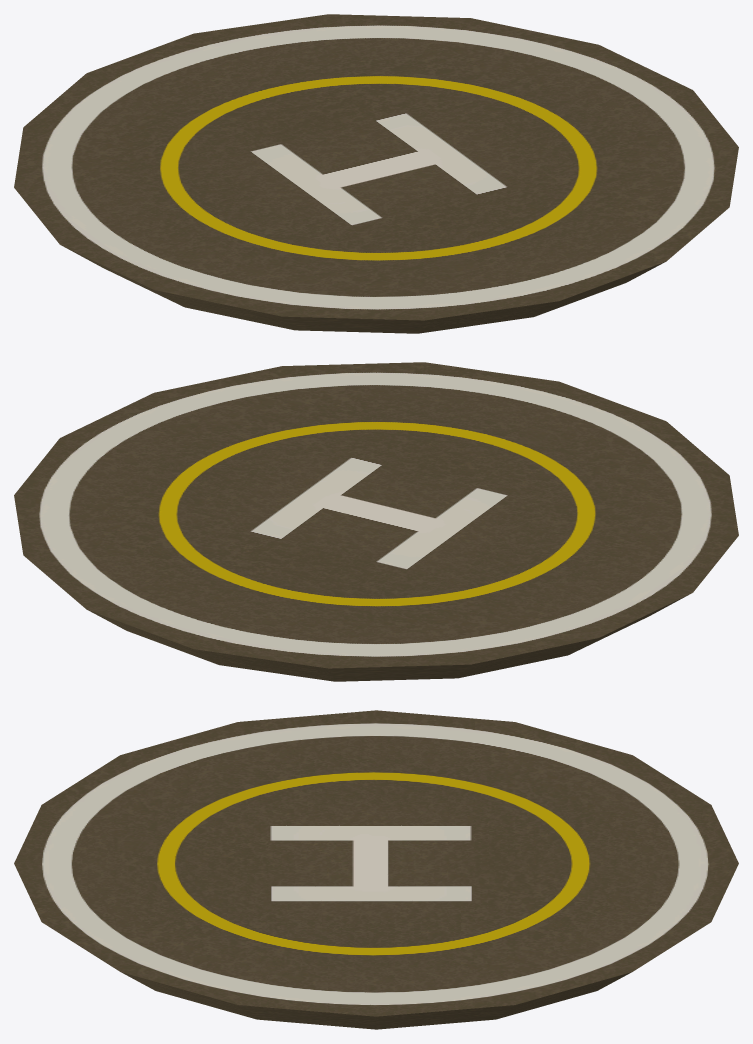
File: BasicLandingPad.FBX
3 renders of one model, top to bottom at view 1: azimuth 30°, elevation 25°; view 2: azimuth 150°, elevation 25°; view 3: azimuth 270°, elevation 25°, orthographic.
Parts seen in each view (by area): view 1: BasicLandingPad; view 2: BasicLandingPad; view 3: BasicLandingPad.
Part boxes in pixels (x1,y1,x2,y2): BasicLandingPad: [14, 14, 738, 333]; BasicLandingPad: [14, 362, 738, 681]; BasicLandingPad: [14, 710, 738, 1029].
Bounding box in the file's own units: 200 × 200 × 10.38.
